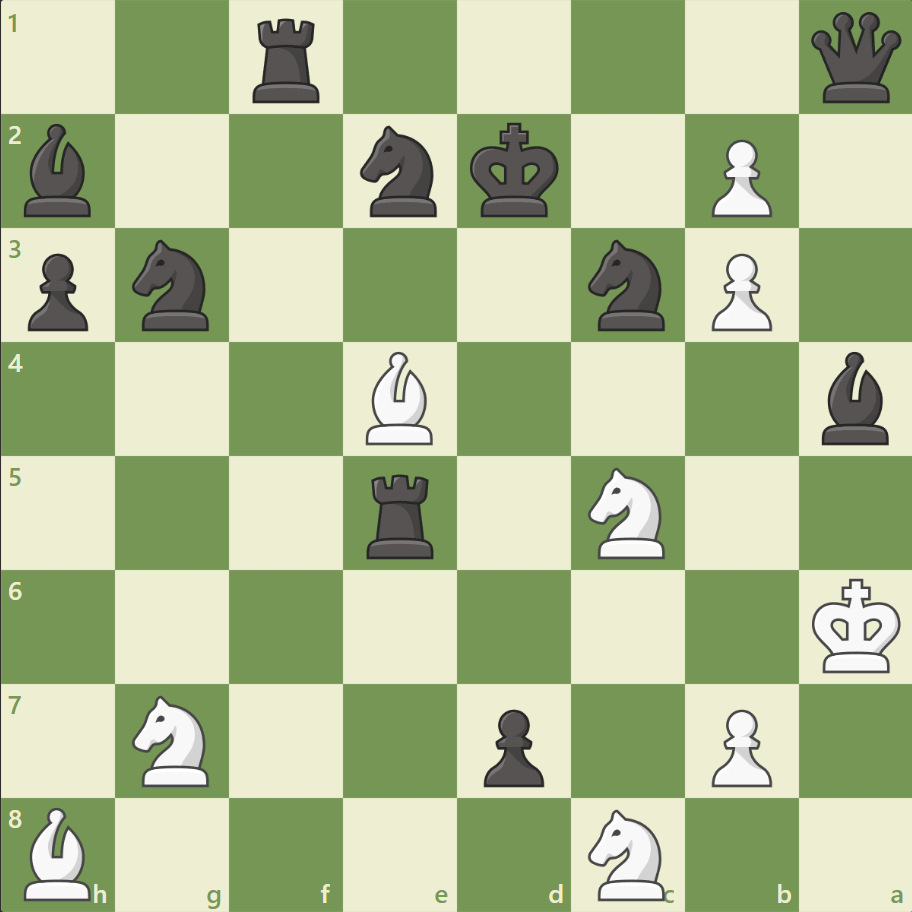B: (17, 801, 101, 904), (358, 347, 442, 449)
K: (806, 571, 906, 679)
N: (124, 688, 222, 791), (579, 461, 676, 564), (579, 802, 676, 904)
P: (701, 700, 776, 791), (701, 246, 776, 337), (701, 132, 776, 223)
b: (812, 347, 896, 449), (17, 120, 101, 222)
k: (465, 117, 565, 225)
n: (124, 234, 222, 337), (351, 121, 449, 223), (579, 234, 676, 337)
p: (474, 700, 549, 791), (20, 246, 95, 337)
q: (805, 9, 904, 108)
r: (246, 12, 329, 109), (360, 466, 442, 563)
